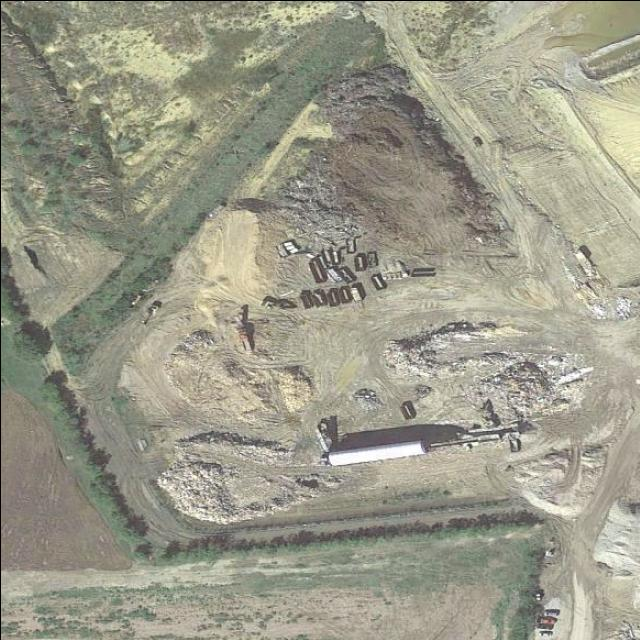dump_site: (464, 346, 604, 428)
